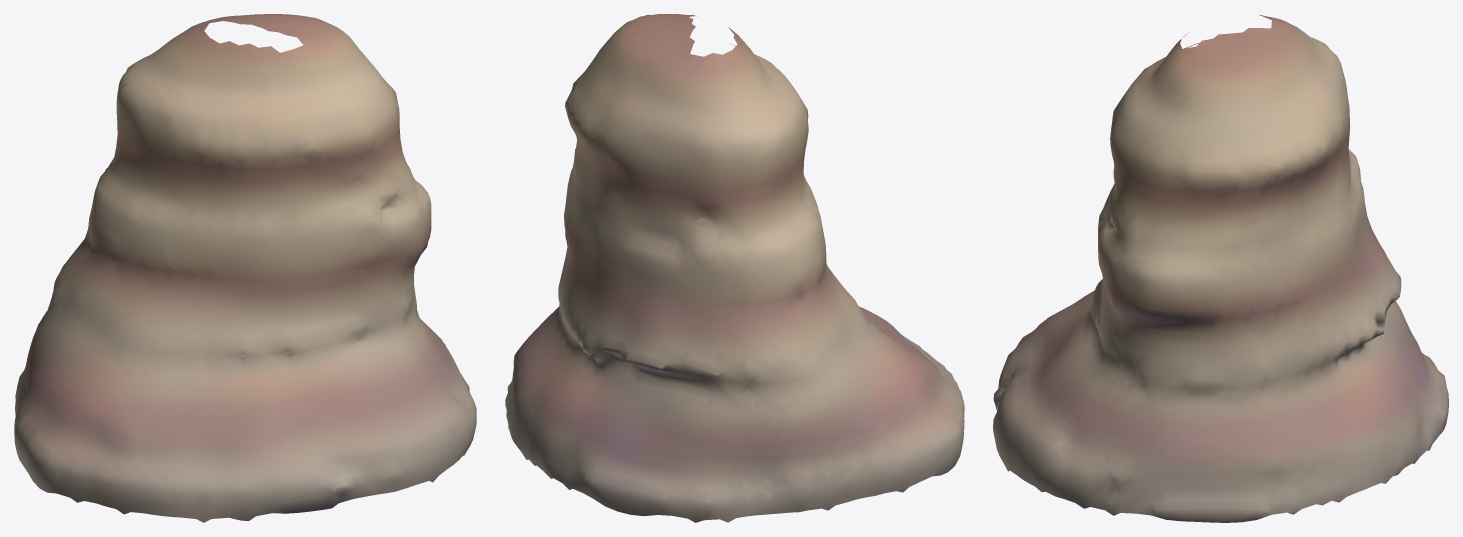
File: Reef_Stack_06.glb
The picture shows the model from 3 angles, left to right: view 1: azimuth 30°, elevation 25°; view 2: azimuth 150°, elevation 25°; view 3: azimuth 270°, elevation 25°; orthographic projection. The views are drawn at different scales.
Visible parts, largest first — view 1: Reef_Stack_06; view 2: Reef_Stack_06; view 3: Reef_Stack_06.
Part boxes in pixels (left/top/right/bottom): Reef_Stack_06: left=14, top=14, right=476, bottom=522; Reef_Stack_06: left=505, top=14, right=964, bottom=522; Reef_Stack_06: left=993, top=14, right=1448, bottom=522.
Size of the model in its own units: 29.27 by 26.84 by 27.27.
